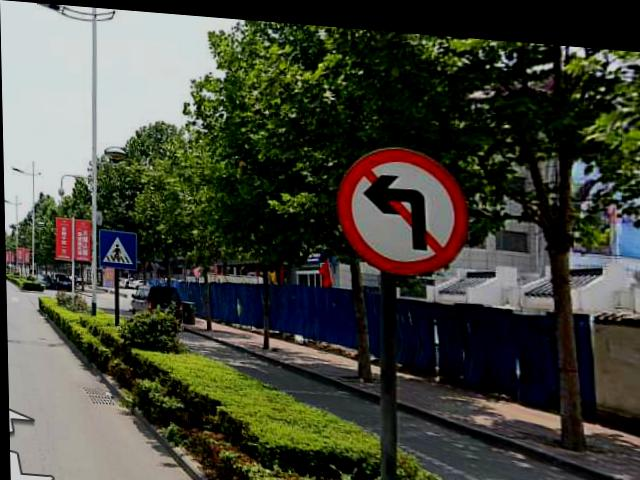not_turn_left: (333, 136, 469, 269)
